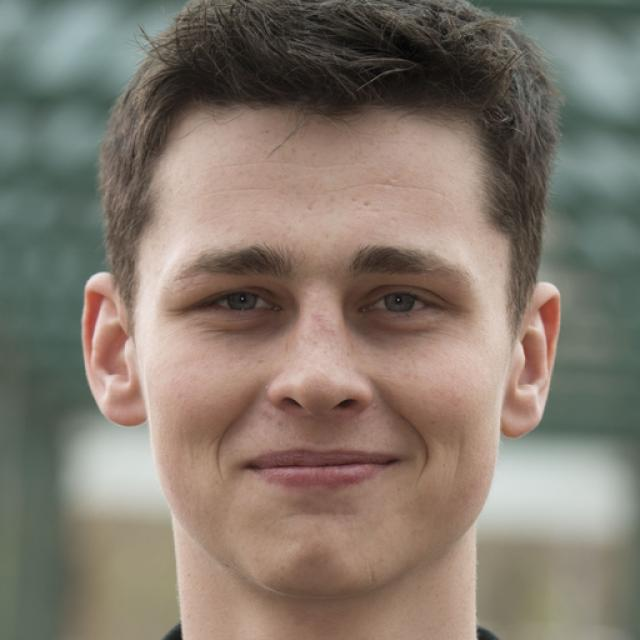Dark Circle: (198, 308, 297, 340), (347, 311, 443, 341)
Wrinkle: (325, 178, 453, 202), (203, 204, 263, 226), (200, 182, 269, 199)
